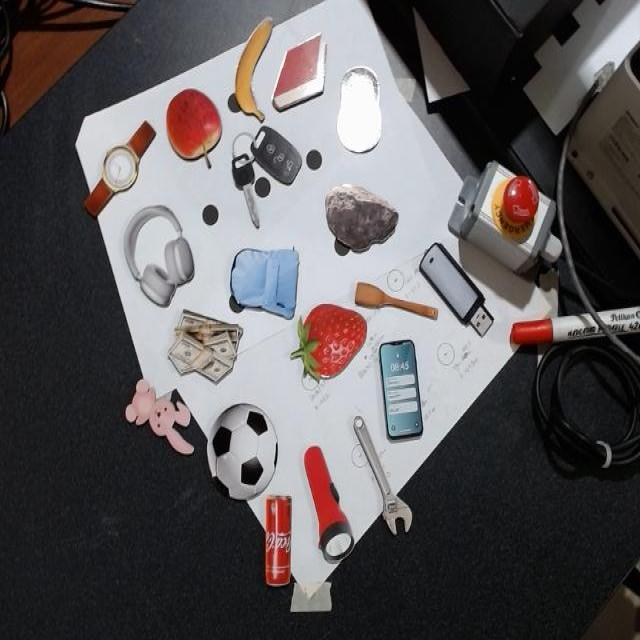Other Objects: (214, 103, 307, 226), (338, 412, 417, 542), (284, 439, 359, 570), (414, 236, 500, 345), (122, 203, 195, 307), (82, 119, 156, 219), (208, 404, 277, 499), (167, 308, 243, 384), (124, 377, 194, 455), (324, 181, 398, 252), (230, 249, 298, 318), (378, 339, 423, 440), (165, 88, 222, 167), (333, 64, 383, 154), (234, 16, 273, 121), (353, 281, 439, 320), (264, 493, 291, 587)
